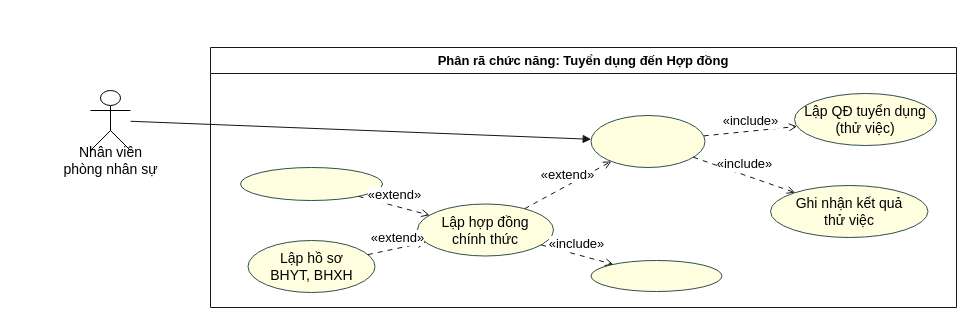
The diagram is 974 pixels wide and 325 high, and some of its shapes have lost their labels. The centre of each missing label's shape, as x and y in pixels:
Lập QĐ Chức vụ: (x=311, y=183)
Lập QĐ Lương: (x=656, y=276)
Tuyển dụng & Ký hợp đồng: (x=647, y=141)
